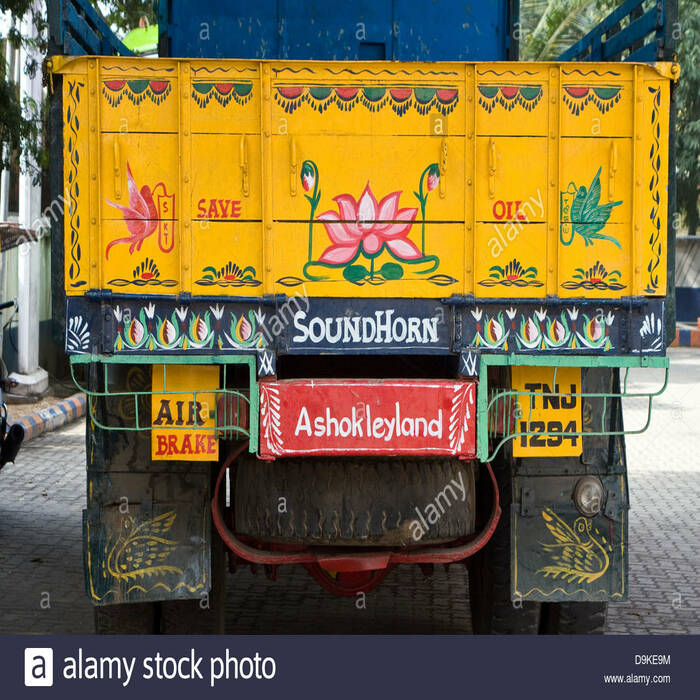n: (512, 367, 582, 454)
